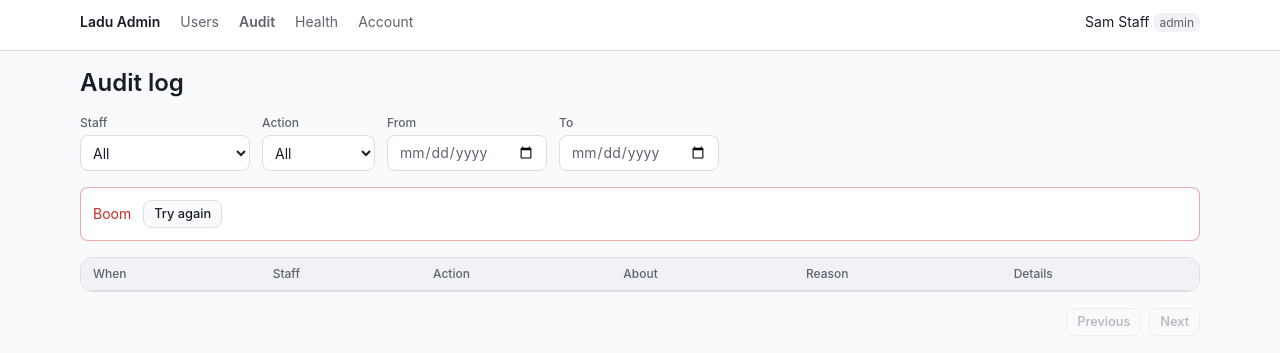
the table › shows the server error and tries again
Check: the message shows "Boom", box [93,205,131,222]
Click the button "Try again" at (183, 214), box [143,200,222,228]
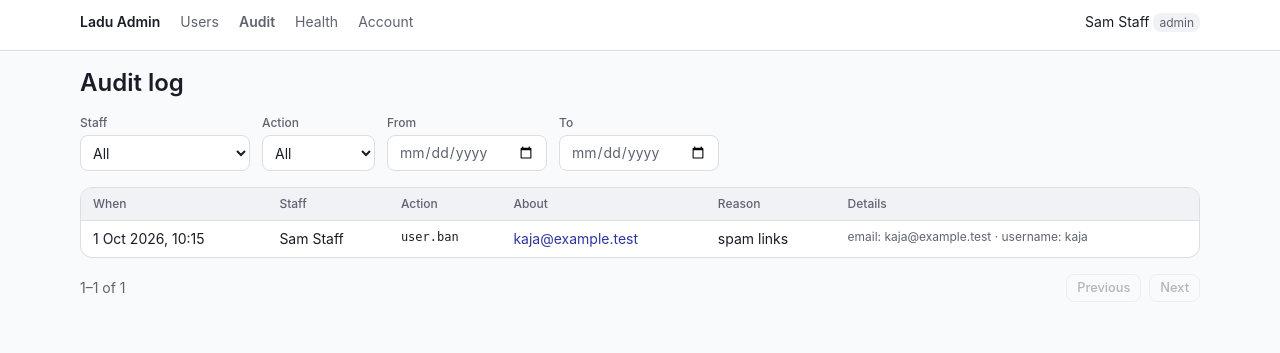
Check: the text "Sam Staff" is shown, box [267,220,389,257]
Check: the message "Boom Try again" is gone
